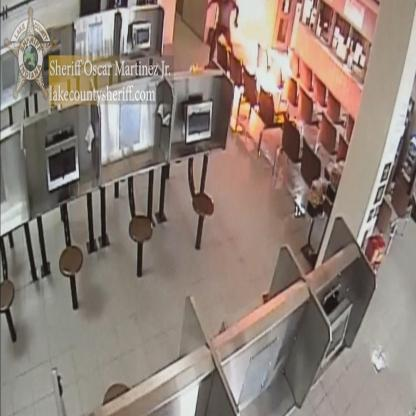fire: (245, 33, 293, 93)
